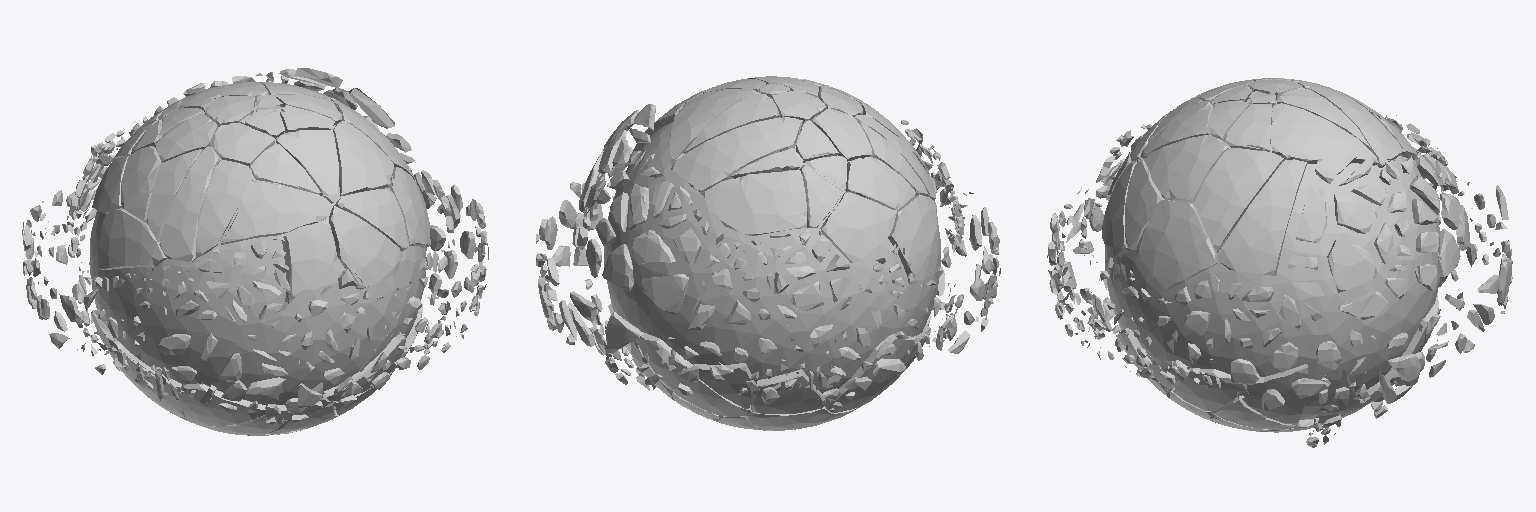
Rendered from explodingPlanet.obj.
The picture shows the model from 3 angles: view 1: azimuth 30°, elevation 25°; view 2: azimuth 150°, elevation 25°; view 3: azimuth 270°, elevation 25°; orthographic projection.
Visible parts, largest first — view 1: COMBINE_LP_COMBINE; view 2: COMBINE_LP_COMBINE; view 3: COMBINE_LP_COMBINE.
Part boxes in pixels (bbox=[...]): COMBINE_LP_COMBINE: bbox=[22, 68, 488, 435]; COMBINE_LP_COMBINE: bbox=[536, 76, 1000, 430]; COMBINE_LP_COMBINE: bbox=[1047, 78, 1512, 447].
Size of the model in its own units: 2.61 by 1.99 by 2.61.